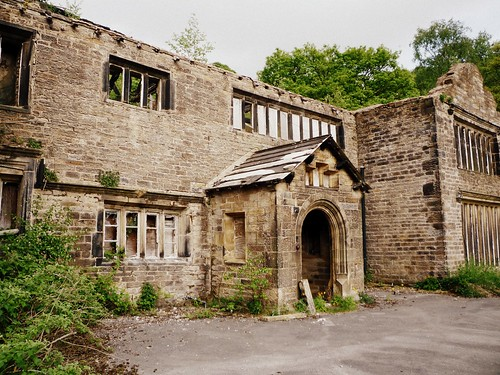building: (1, 6, 500, 304)
tree: (262, 40, 415, 108), (418, 20, 500, 99)
vegetation: (1, 237, 145, 375)
